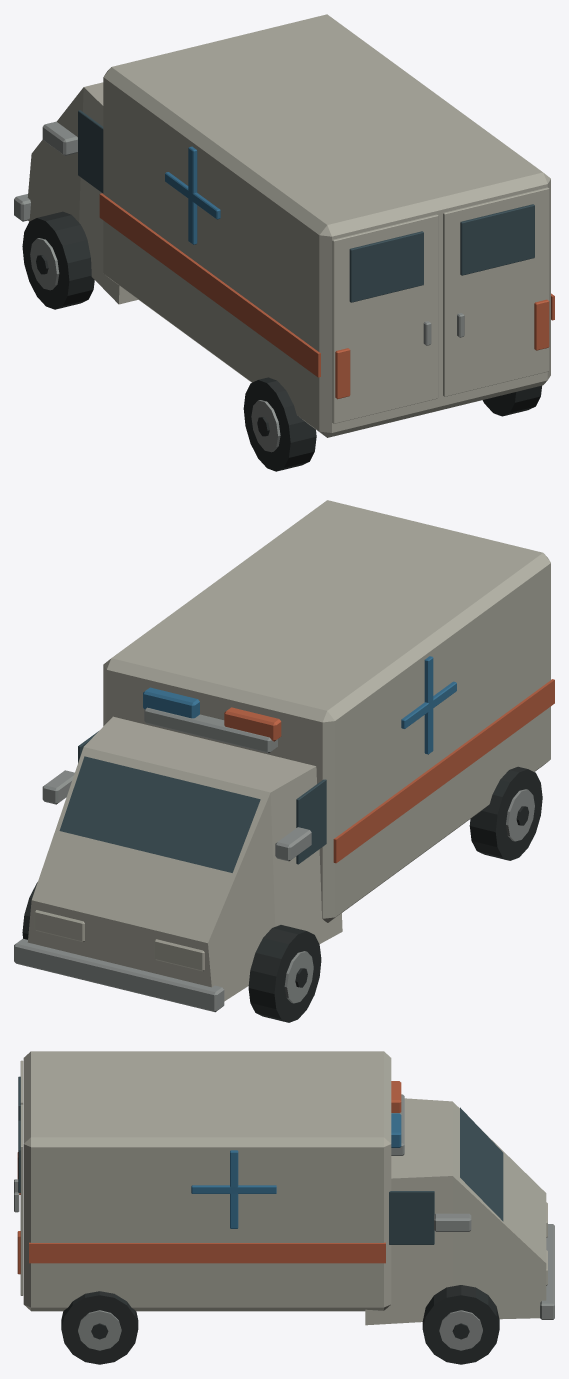
File: ambulance.glb
3 renders of one model, top to bottom at view 1: azimuth 30°, elevation 25°; view 2: azimuth 150°, elevation 25°; view 3: azimuth 270°, elevation 25°, orthographic. The views are drawn at different scales.
Visible parts, largest first — view 1: ambulance; view 2: ambulance; view 3: ambulance.
Boxes of the visible parts, <box> form: ambulance: <box>14,14,554,471</box>; ambulance: <box>14,500,554,1022</box>; ambulance: <box>14,1051,554,1364</box>.
Size of the model in its own units: 2.32 by 2.28 by 5.08.
